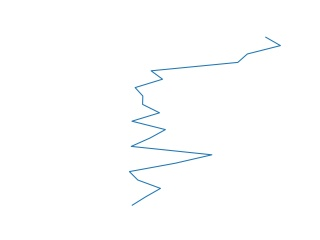crevasseRiverChannelBar: (118, 33, 289, 209)
